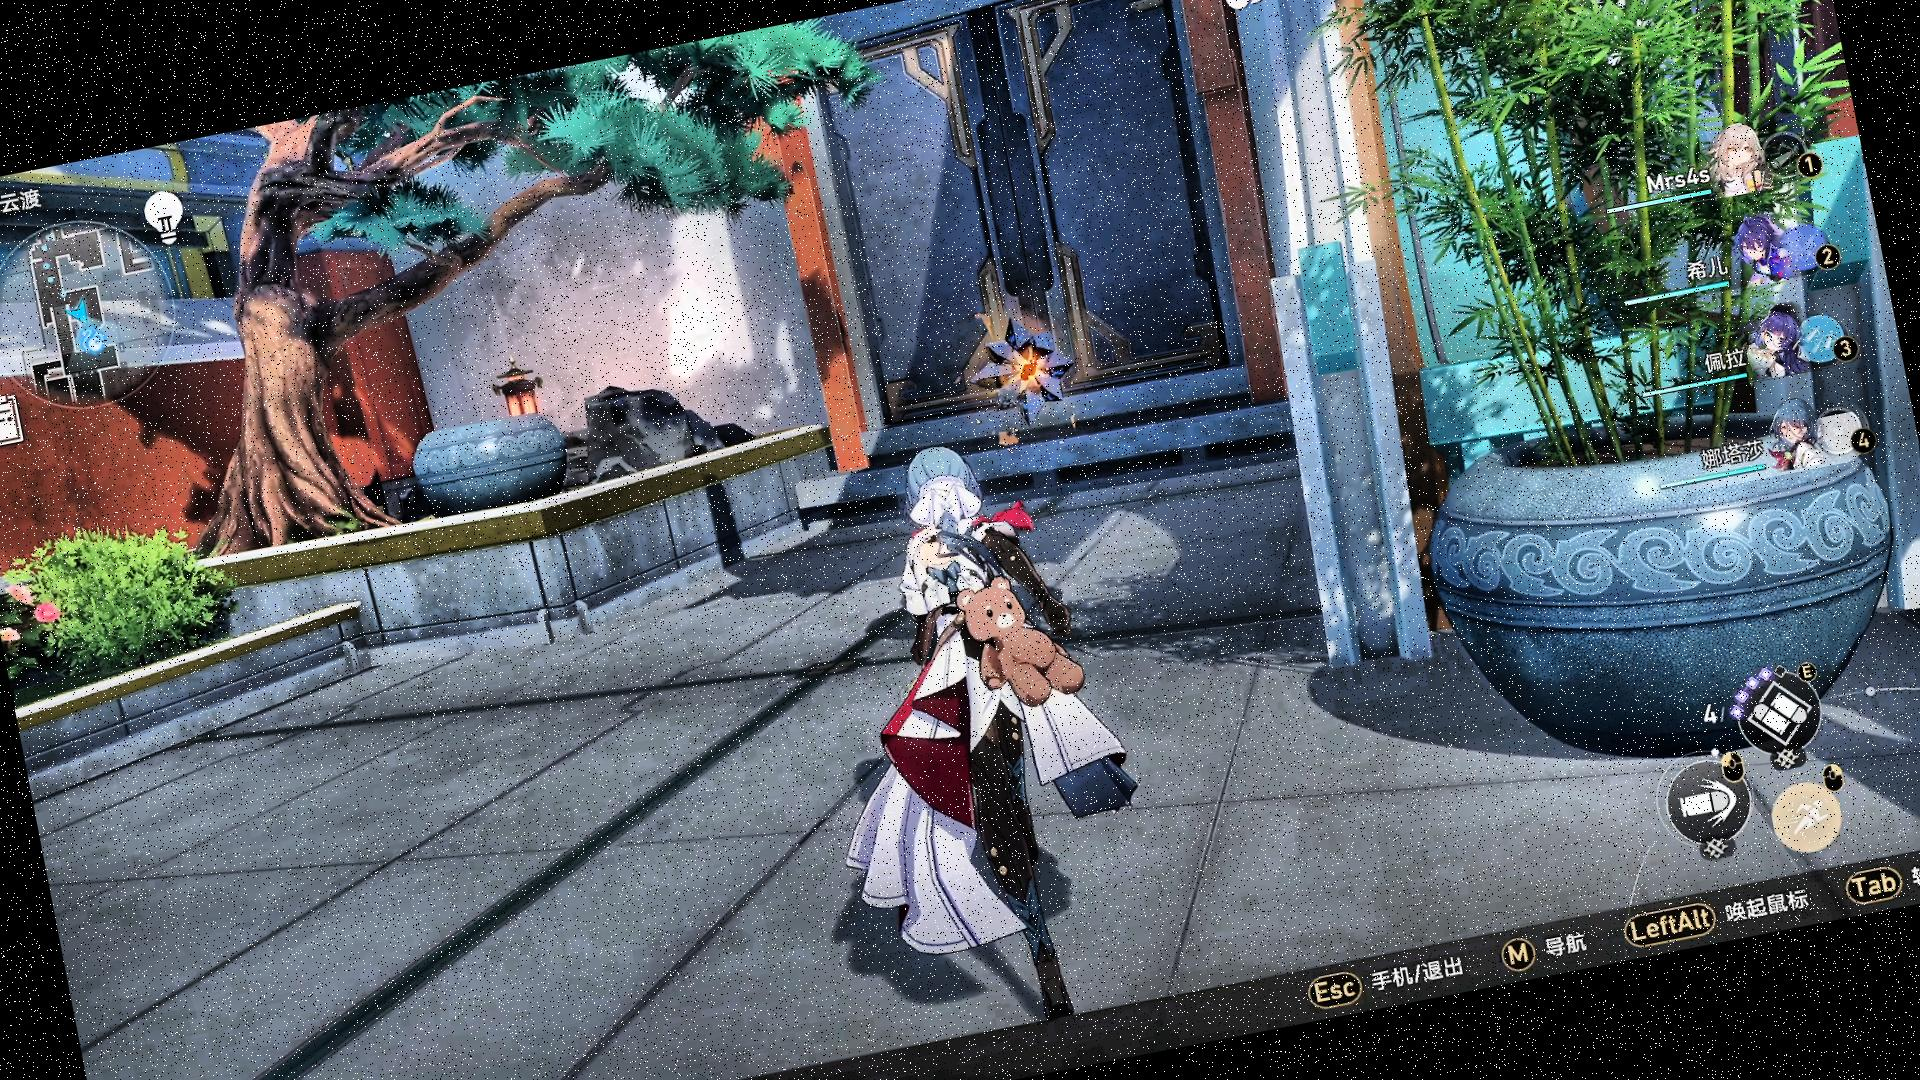Self: (790, 401, 1156, 1047)
